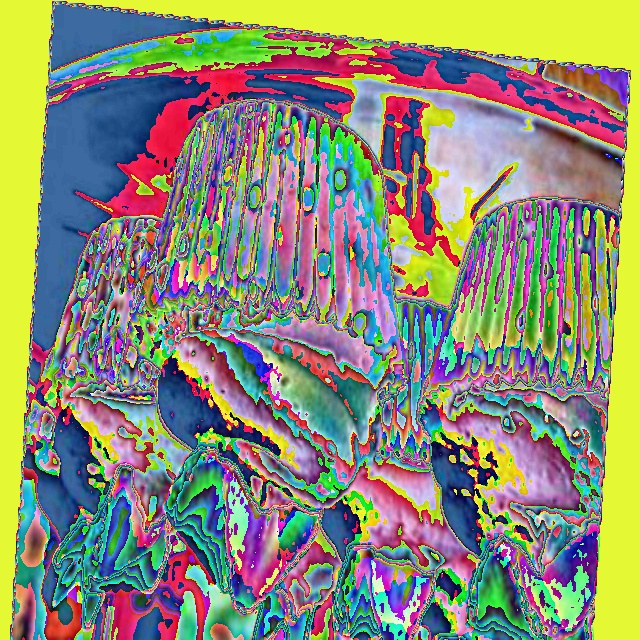background: (33, 298, 607, 639)
